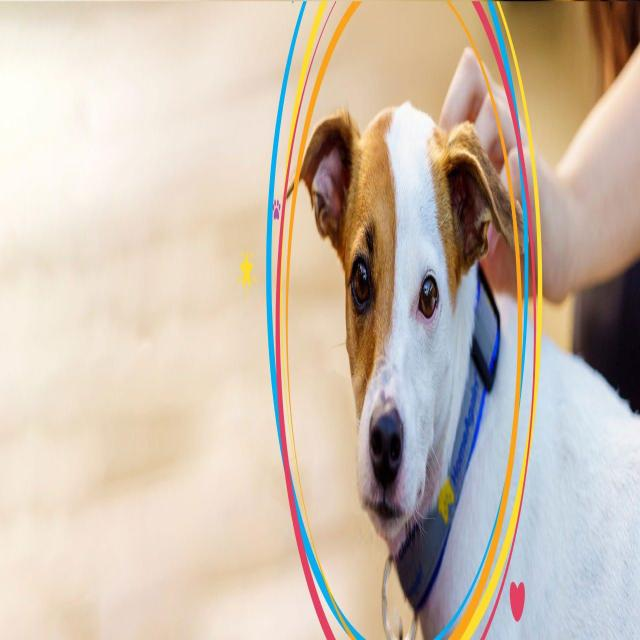Dog: (292, 98, 525, 556)
